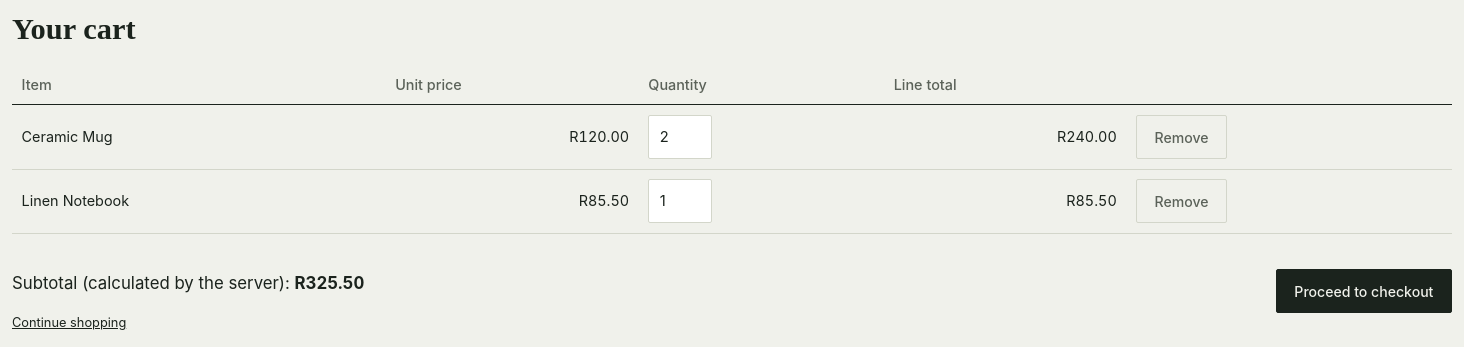
Test: CartPage quantity changes › shows the subtotal the server returns after a quantity change
Click the number field named "Quantity for Ceramic Mug". click: (680, 137)
box: [648, 115, 712, 159]
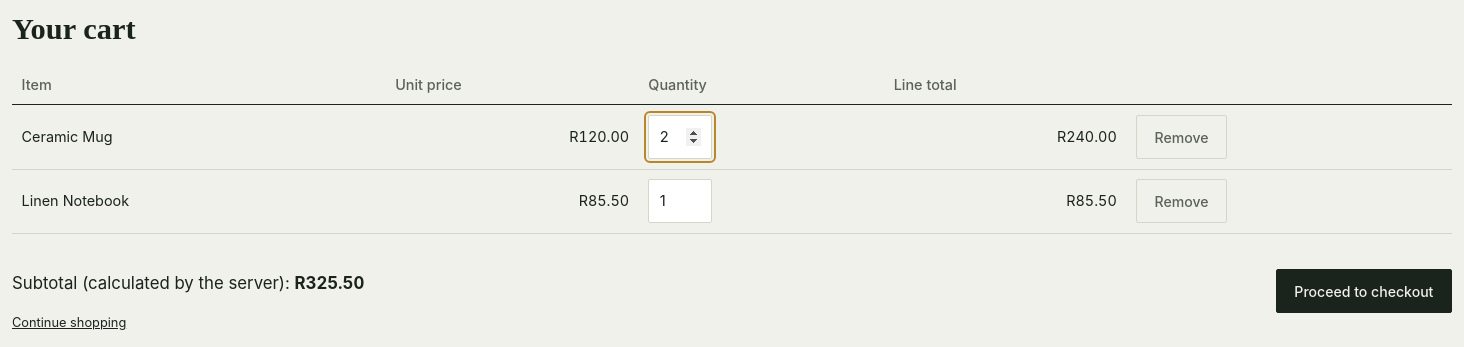
Type keys "4"
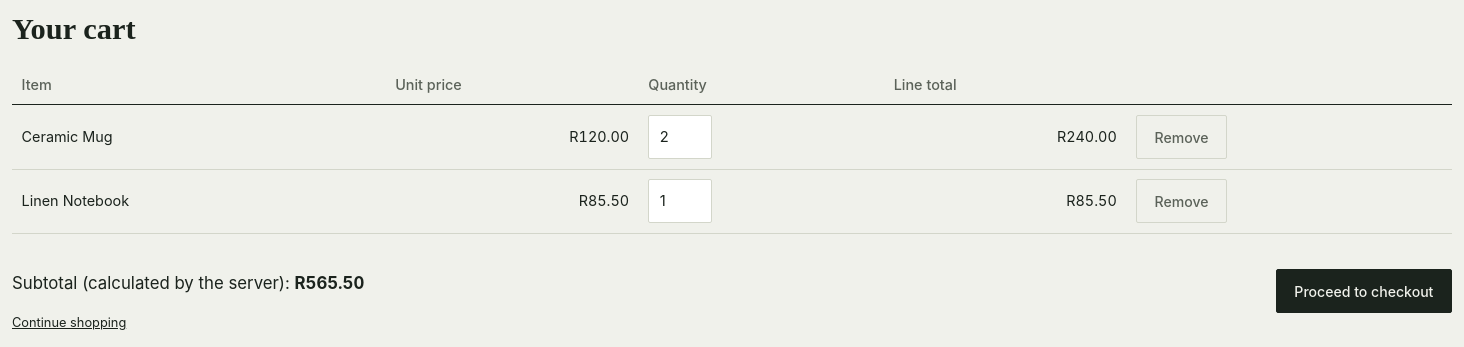
expect the text "R565.50" is shown: met, box [294, 273, 364, 293]
